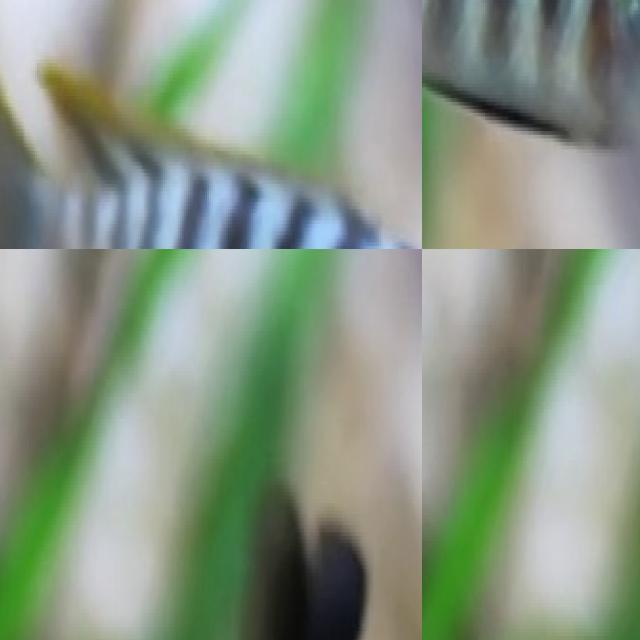fish: (0, 0, 422, 249), (422, 0, 640, 160)
